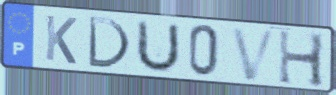0: (187, 23, 225, 79)
D: (85, 14, 133, 71)
H: (277, 27, 327, 90)
K: (43, 13, 79, 66)
U: (133, 18, 182, 75)
V: (229, 26, 280, 83)
